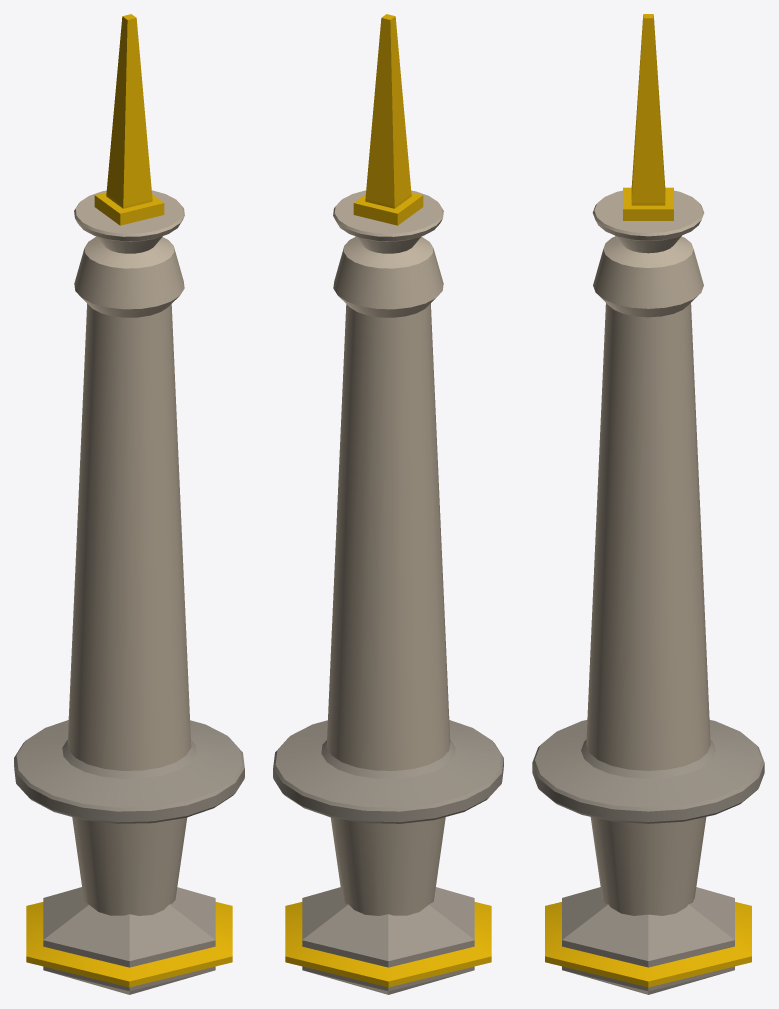
Rendered from mesh_column_03.fbx.
3 renders of one model, left to right at view 1: azimuth 30°, elevation 25°; view 2: azimuth 150°, elevation 25°; view 3: azimuth 270°, elevation 25°, orthographic.
Parts seen in each view (by area): view 1: mesh_column_03; view 2: mesh_column_03; view 3: mesh_column_03.
Boxes of the visible parts, x1,y1,x2,y2 form: mesh_column_03: (14, 14, 244, 994); mesh_column_03: (273, 14, 503, 994); mesh_column_03: (532, 14, 764, 994).
Size of the model in its own units: 0.0508 by 0.2298 by 0.0494.
